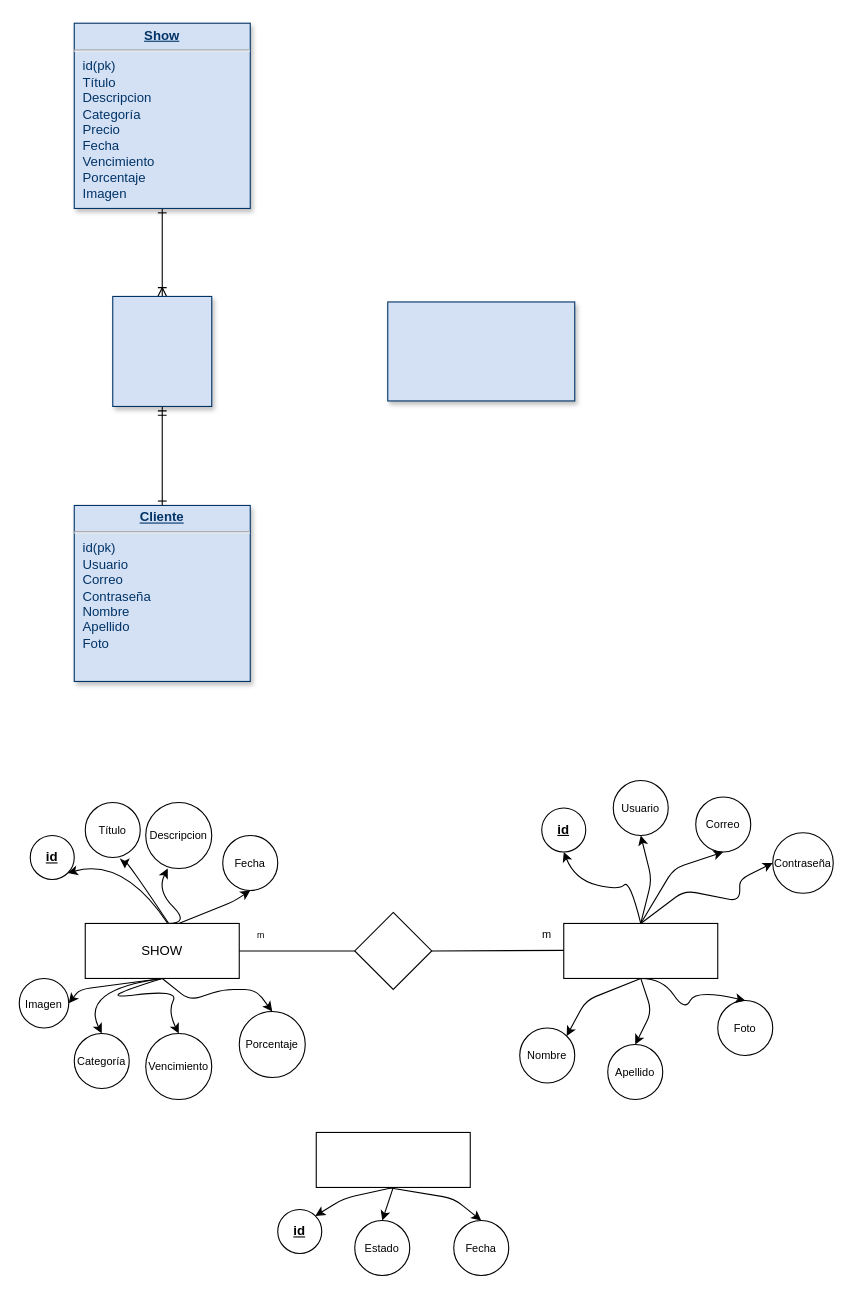
Some shapes in this 853 by 1296 pixel diagram are drawn without their labels. The centre of each missing label's shape, as x and y in pixels:
APORTE: [393,950]
Aporte id(pk) id_show(fk) id_cliente(fk) Monto: [162,352]
CLIENTE: [640,950]
PAGO: [392,1159]
Pago id Estado Fecha: [481,352]
